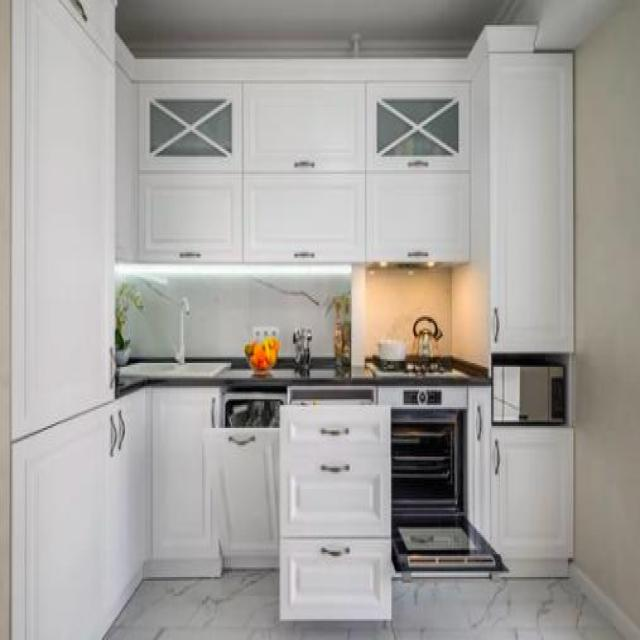dishwasher: (200, 386, 286, 567)
